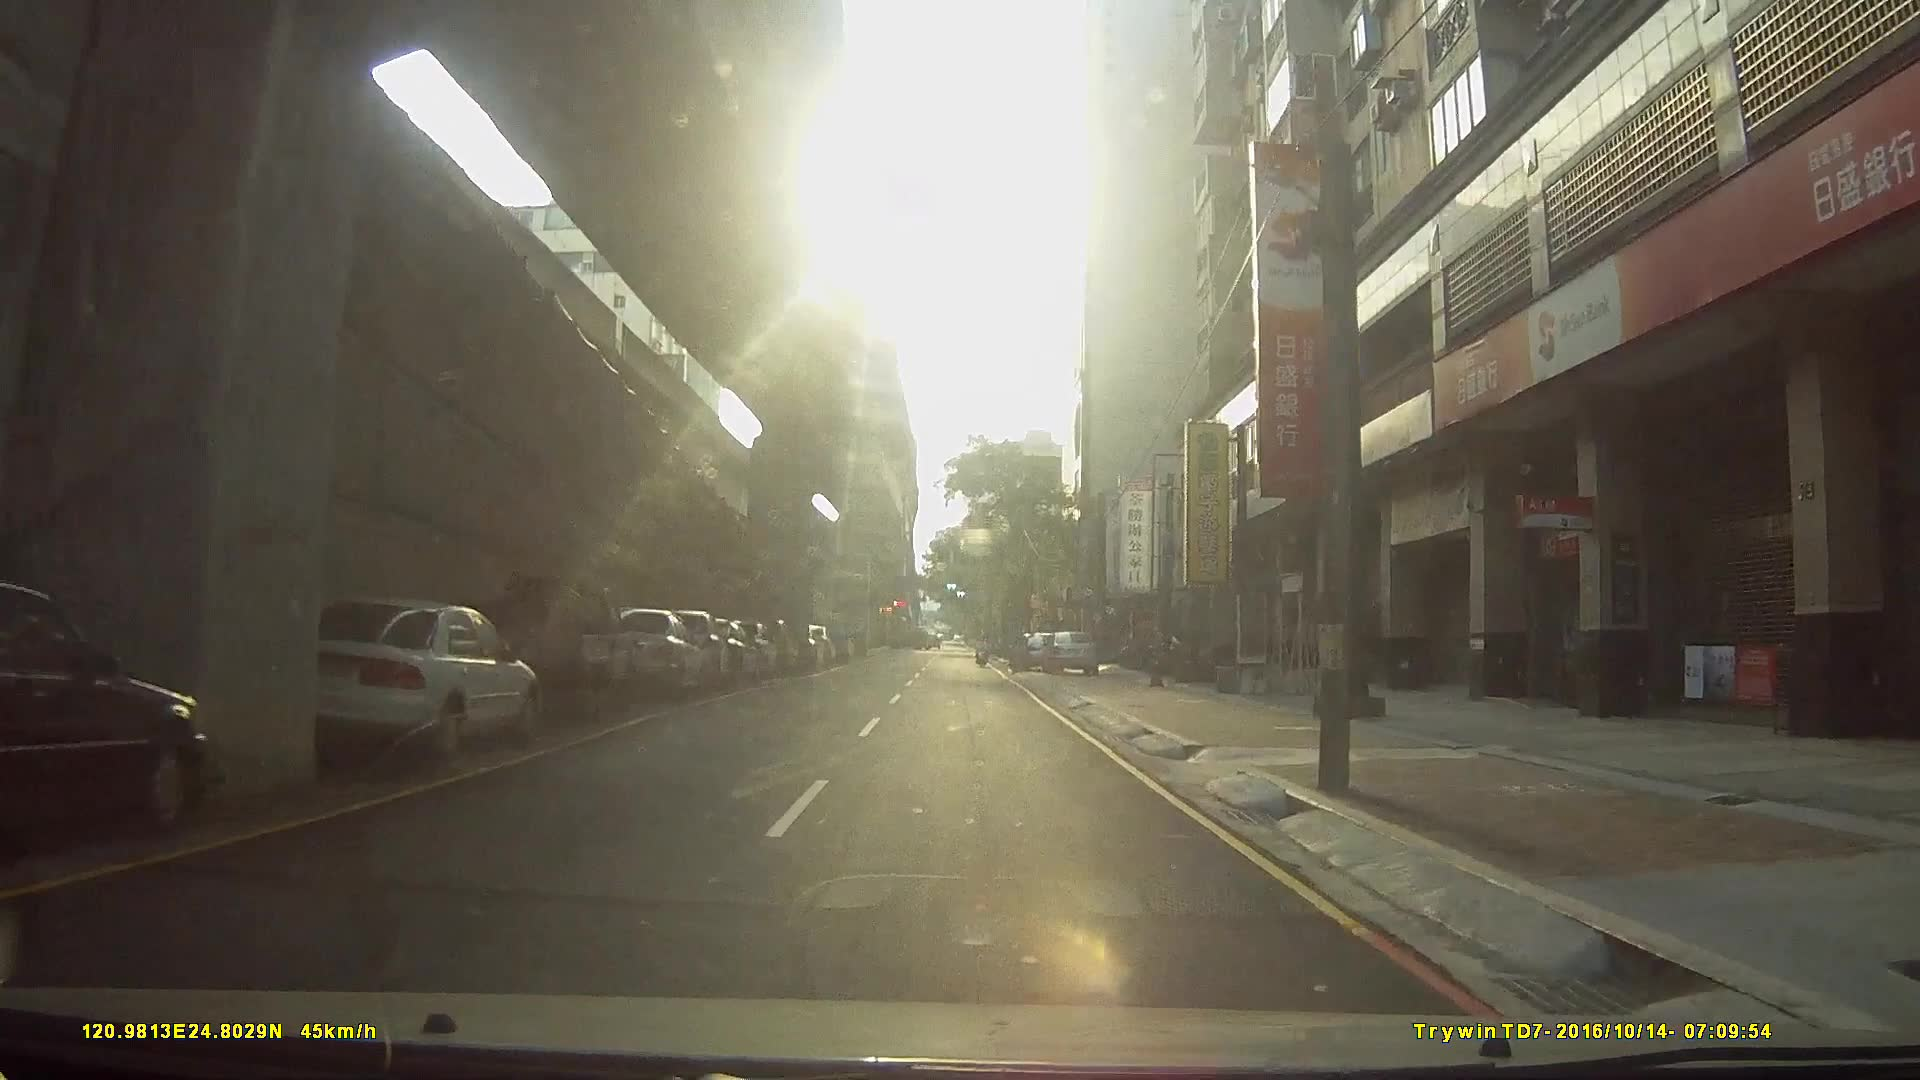vehicle: (0, 580, 210, 841), (285, 597, 537, 766), (443, 579, 636, 713), (579, 608, 707, 705), (659, 620, 794, 670), (1036, 629, 1098, 676)
